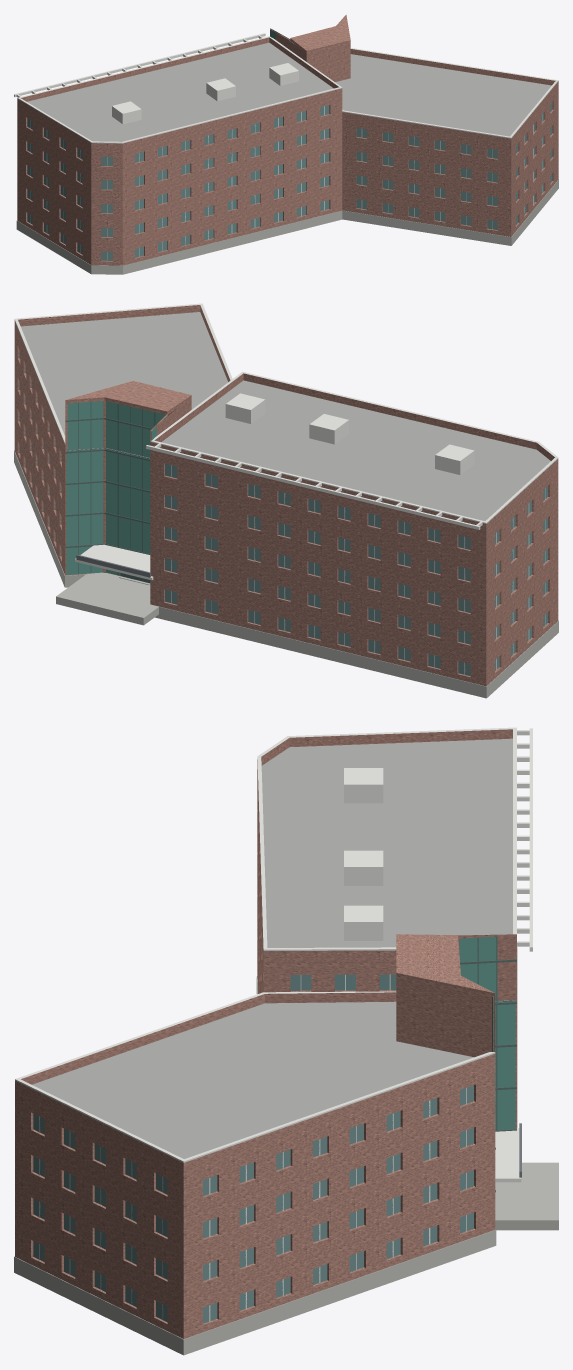
3 views of the same model, one above another, from view 1: azimuth 30°, elevation 25°; view 2: azimuth 150°, elevation 25°; view 3: azimuth 270°, elevation 25° (orthographic). The views are drawn at different scales.
Parts seen in each view (by area): view 1: S2 pink red brick, S2 grey roof, S2 grey green glass, S2 granite base, S2 white end panel and pergola, S2 white window frames; view 2: S2 pink red brick, S2 grey roof, S2 green curtain wall glass, S2 grey green glass, S2 white end panel and pergola, S2 granite base, S2 dark curtain wall mullions, S2 white window frames; view 3: S2 pink red brick, S2 grey roof, S2 white end panel and pergola, S2 grey green glass, S2 granite base, S2 green curtain wall glass, S2 white window frames, S2 dark curtain wall mullions.
Part boxes in pixels (x1,y1,x2,y2): S2 pink red brick: (17,14,558,265); S2 grey roof: (27,42,551,141); S2 grey green glass: (27,102,552,260); S2 granite base: (16,179,558,274); S2 white end panel and pergola: (14,33,558,143); S2 white window frames: (30,106,542,260); S2 pink red brick: (14,305,558,686); S2 grey roof: (20,312,550,520); S2 green curtain wall glass: (66,401,167,575); S2 grey green glass: (19,351,547,675); S2 white end panel and pergola: (14,303,558,580); S2 granite base: (14,450,558,698); S2 dark curtain wall mullions: (65,402,155,575); S2 white window frames: (171,465,545,674); S2 pink red brick: (15,729,516,1338); S2 grey roof: (32,738,514,1158); S2 white end panel and pergola: (15,727,532,1182); S2 grey green glass: (33,974,473,1323); S2 granite base: (14,947,558,1355); S2 green curtain wall glass: (459,936,515,1130); S2 white window frames: (39,974,466,1321); S2 dark curtain wall mullions: (460,936,516,1192).
Size of the model in its own units: 71.28 by 21.4 by 41.85.
Materials: 10 (1 with a texture image).
